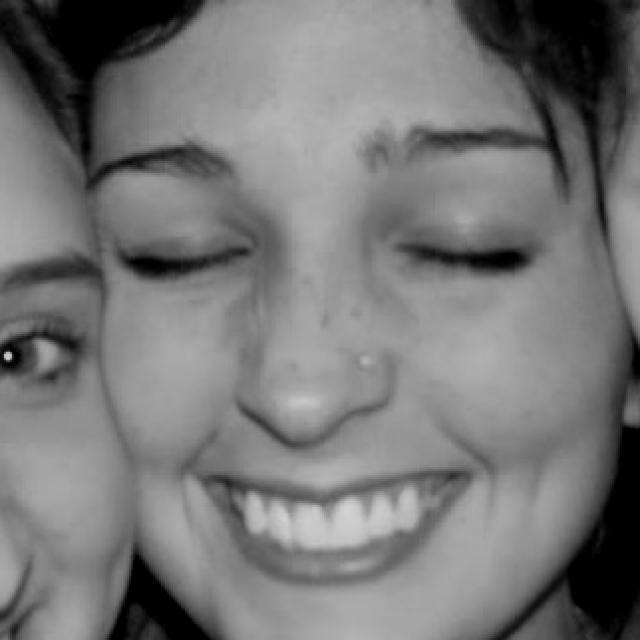real: (96, 24, 626, 624), (134, 167, 546, 302)
